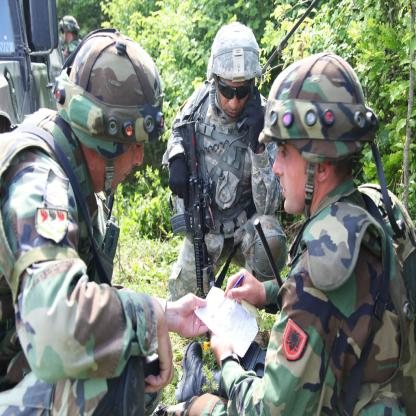Helmet: (53, 15, 165, 196), (261, 64, 382, 220), (204, 23, 264, 106), (56, 16, 83, 52)
